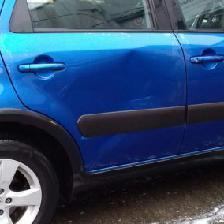dent: (120, 46, 145, 65)
